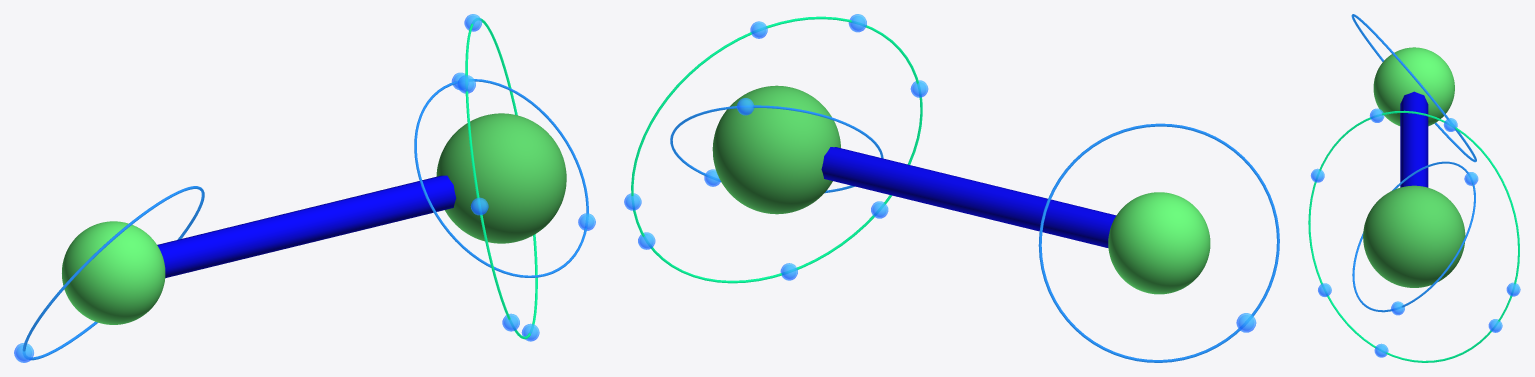
The picture shows the model from 3 angles, left to right: view 1: azimuth 30°, elevation 25°; view 2: azimuth 150°, elevation 25°; view 3: azimuth 270°, elevation 25°; orthographic projection. The views are drawn at different scales.
Parts seen in each view (by area): view 1: F, object 26, H, object 6, object 11, object 2; view 2: F, object 26, H, object 2, object 11, object 6; view 3: F, H, object 26, object 11, object 6, object 2.
Boxes of the visible parts, x1=… form: F: x1=436, y1=113, x2=566, y2=243; object 26: x1=157, y1=175, x2=456, y2=277; H: x1=62, y1=221, x2=165, y2=324; object 6: x1=414, y1=79, x2=588, y2=277; object 11: x1=465, y1=18, x2=537, y2=339; object 2: x1=22, y1=186, x2=204, y2=360; F: x1=712, y1=85, x2=840, y2=214; object 26: x1=821, y1=147, x2=1116, y2=247; H: x1=1108, y1=192, x2=1210, y2=294; object 2: x1=1038, y1=123, x2=1279, y2=362; object 11: x1=631, y1=16, x2=922, y2=283; object 6: x1=670, y1=105, x2=883, y2=193; F: x1=1363, y1=185, x2=1465, y2=287; H: x1=1373, y1=47, x2=1454, y2=126; object 26: x1=1400, y1=91, x2=1428, y2=187; object 11: x1=1308, y1=110, x2=1519, y2=362; object 6: x1=1352, y1=161, x2=1475, y2=312; object 2: x1=1351, y1=14, x2=1476, y2=162.
Size of the model in its own units: 7.46 by 3.66 by 3.01.
